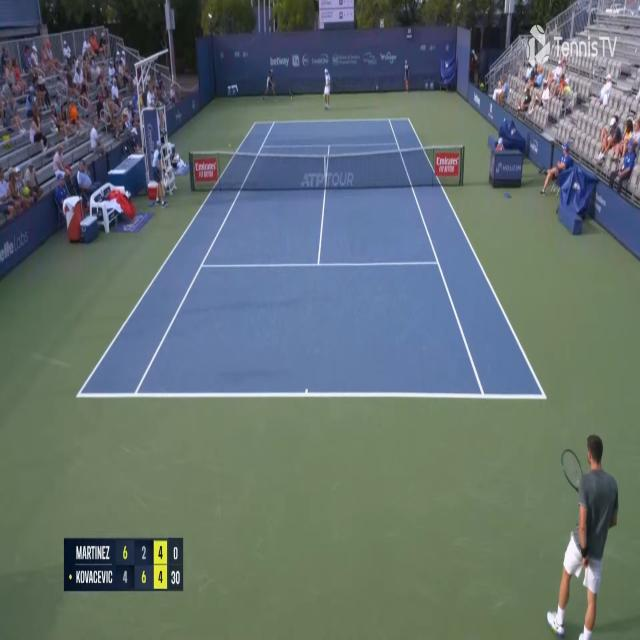tennis-player: (548, 433, 620, 640), (322, 67, 332, 110)
